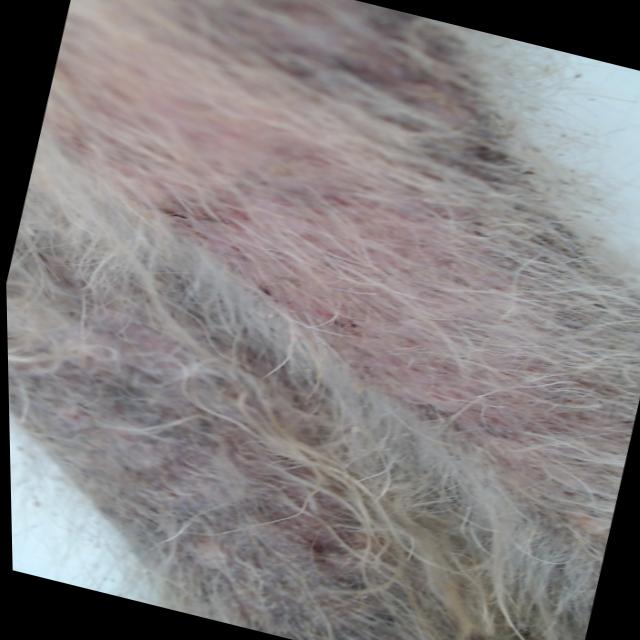demodicosis: (152, 81, 633, 453), (10, 361, 397, 619)
